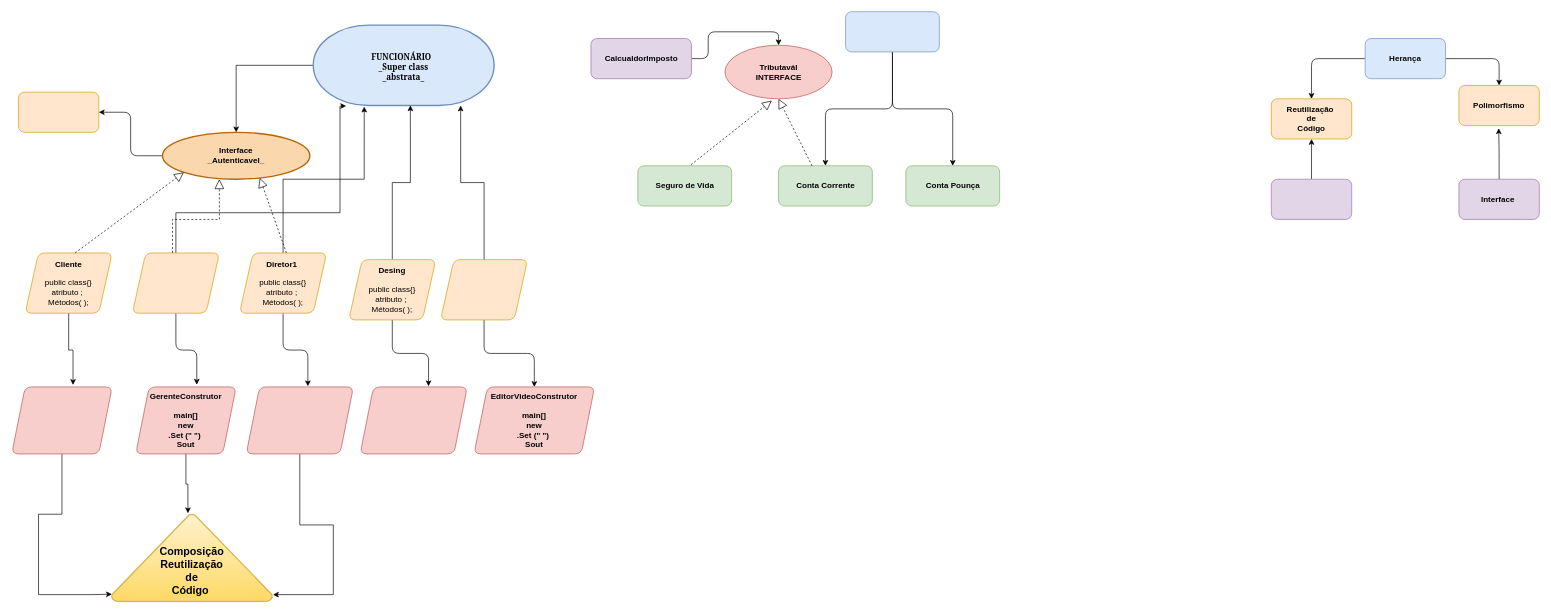
This 1551x614 diagram has some shape labels left out. Here are the shapes that lost their labels. From the top down, the centre of each, then its label:
pixel 892 31: CONTA
pixel 58 111: SistemaInterno
pixel 1311 199: Composição
pixel 175 282: Gerente public class{} atributo ; Métodos( );
pixel 484 289: EditorVideos public class{} atributo ; Métodos( );
pixel 61 420: ClienteConsntrutor main[] new .Set (" ") Sout
pixel 299 420: Diretor1Construtor main[] new .Set (" ") Sout
pixel 413 420: Diretor2Construtor main[] new .Set (" ") Sout
